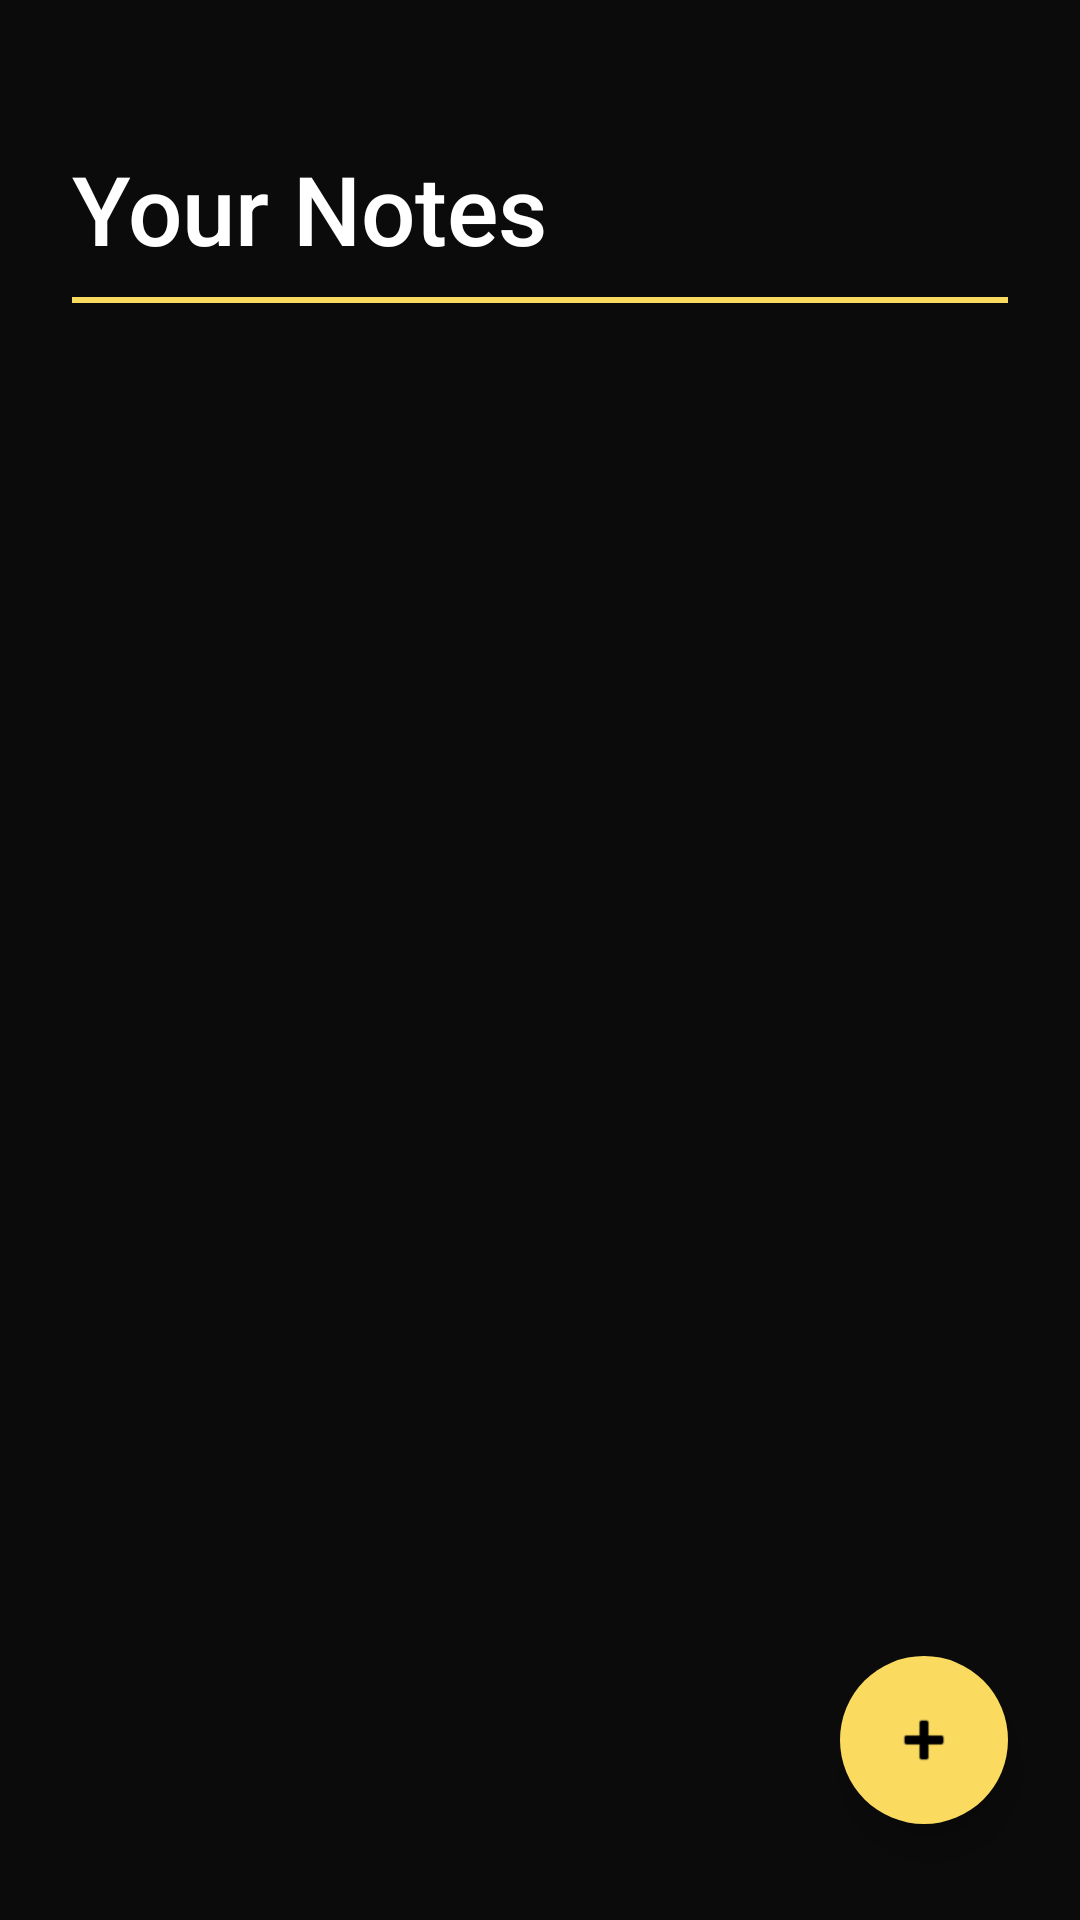

Icon bounding boxes for this 1080 x 1920 phone screenshot, format (x1, y1, x2, y2):
add: (840, 1656, 1008, 1824)
